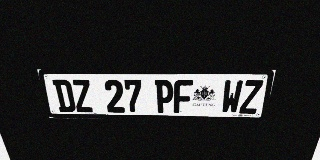2: (104, 80, 125, 113)
7: (123, 80, 143, 113)
D: (52, 79, 76, 112)
F: (174, 80, 193, 113)
P: (155, 80, 174, 113)
W: (220, 80, 244, 114)
Z: (239, 80, 264, 114), (71, 79, 94, 112)
